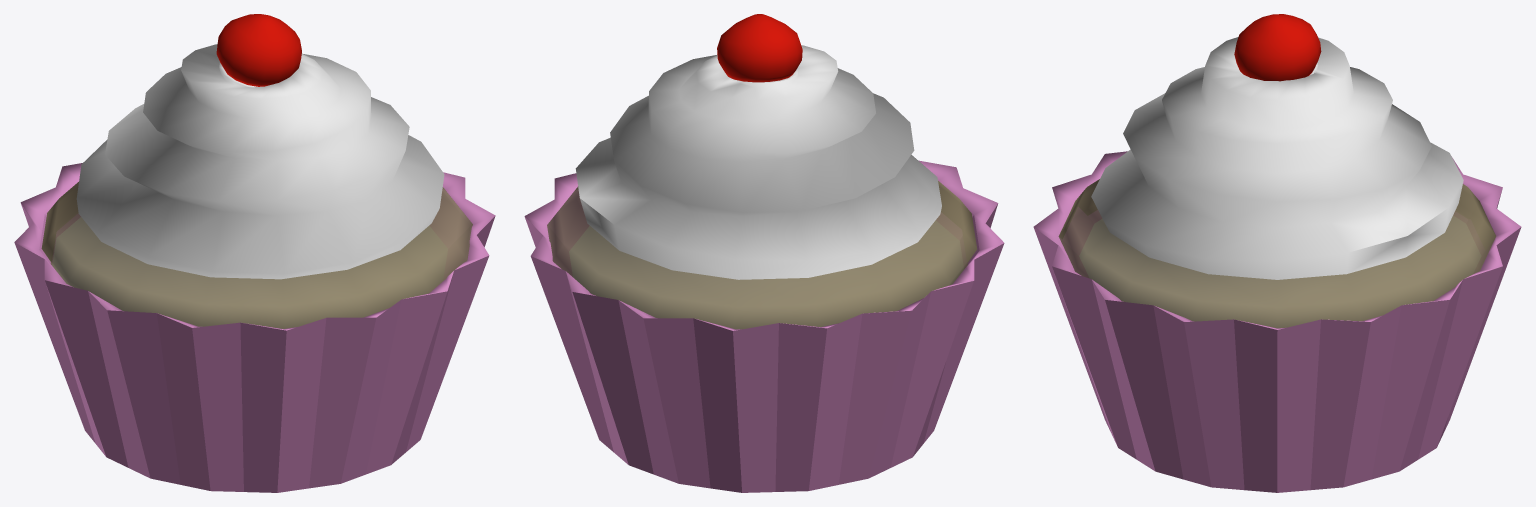
Rendered from cake.fbx.
3 renders of one model, left to right at view 1: azimuth 30°, elevation 25°; view 2: azimuth 150°, elevation 25°; view 3: azimuth 270°, elevation 25°, orthographic.
Visible parts, largest first — view 1: Circle.002; view 2: Circle.002; view 3: Circle.002.
Boxes of the visible parts, x1=… form: Circle.002: x1=14, y1=14, x2=495, y2=492; Circle.002: x1=524, y1=14, x2=1004, y2=492; Circle.002: x1=1033, y1=14, x2=1521, y2=492.
Bounding box in the file's own units: 2.58 × 2.37 × 2.58.
